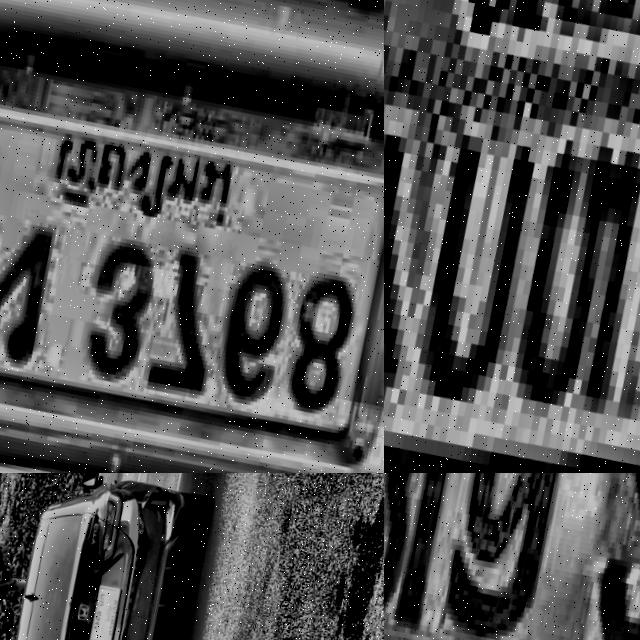license-plate: (0, 9, 384, 473), (384, 0, 640, 473), (384, 473, 640, 640)
